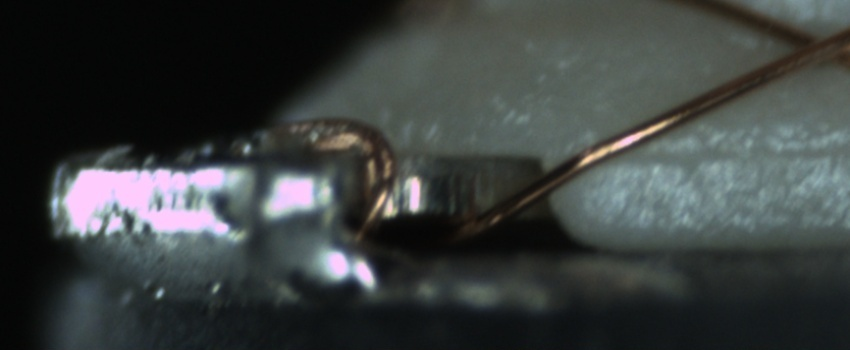CL: (766, 11, 850, 78)
DL: (610, 123, 849, 187)
TE: (272, 112, 399, 254)
